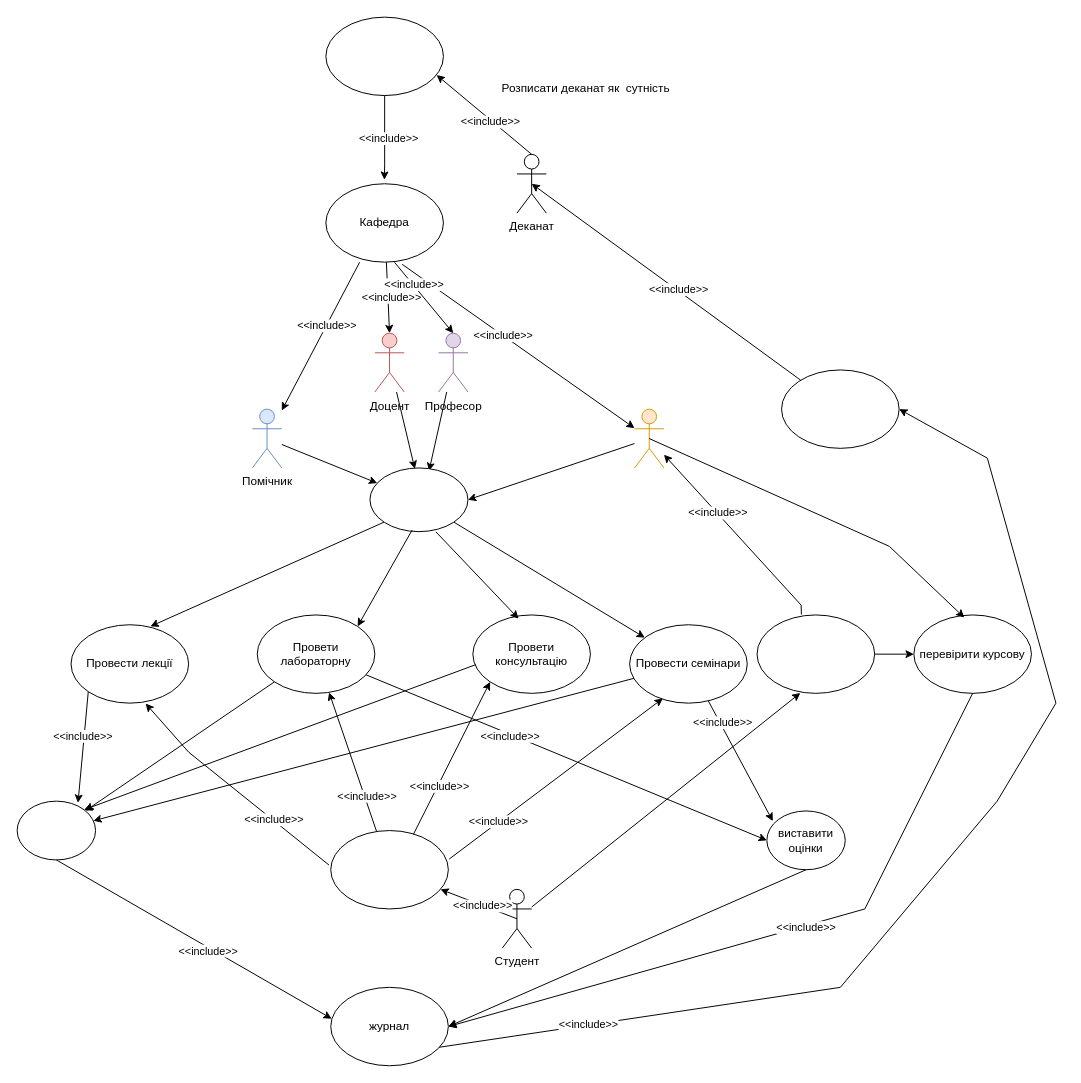
Image size: 1081x1083. Some labels were removed from this diagram. Here are the shapes that lost their labels. From the top down, the centre of each, then its label:
At [384,56]: "створити навчальний план".
At [840,408]: "Контроль якості освіти".
At [649,438]: "Викладач".
At [418,499]: "Предмети які веде викладач".
At [815,653]: "курсова робота".
At [56,830]: "відмітити присутніх".
At [389,869]: "група студентів".
